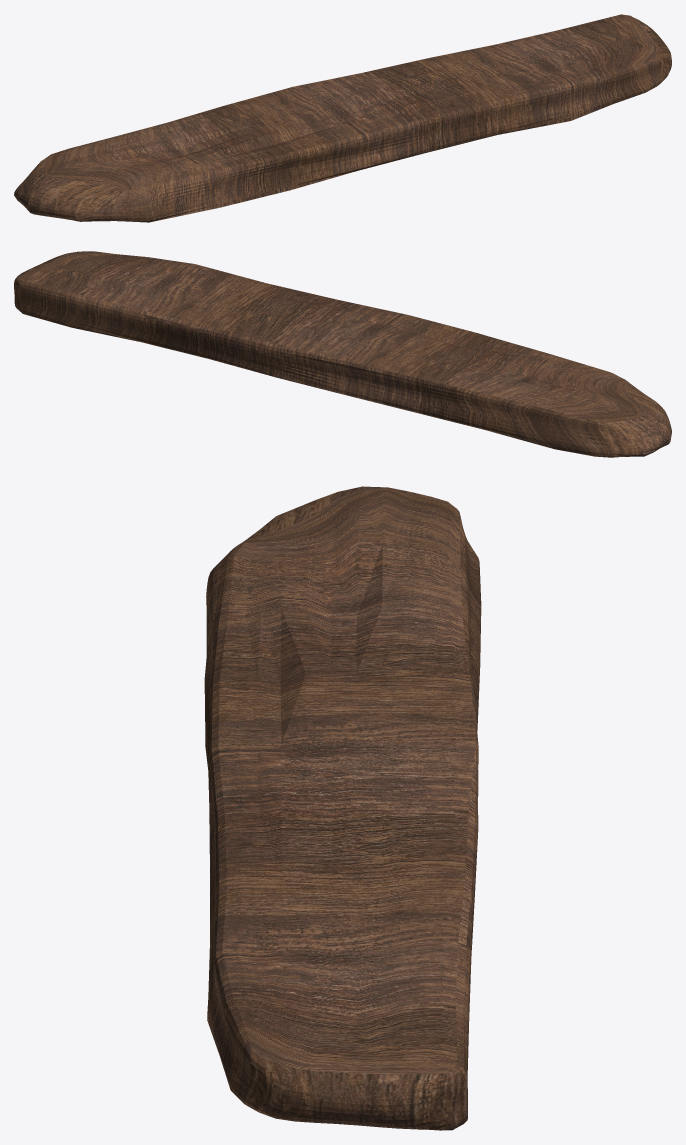
Rendered from Madera.fbx.
3 renders of one model, top to bottom at view 1: azimuth 30°, elevation 25°; view 2: azimuth 150°, elevation 25°; view 3: azimuth 270°, elevation 25°, orthographic. The views are drawn at different scales.
Parts seen in each view (by area): view 1: Madera.001; view 2: Madera.001; view 3: Madera.001.
Part boxes in pixels (x1,y1,x2,y2): Madera.001: [14, 14, 671, 222]; Madera.001: [14, 251, 671, 457]; Madera.001: [204, 486, 481, 1130].
Size of the model in its own units: 1198 by 68.5 by 226.
